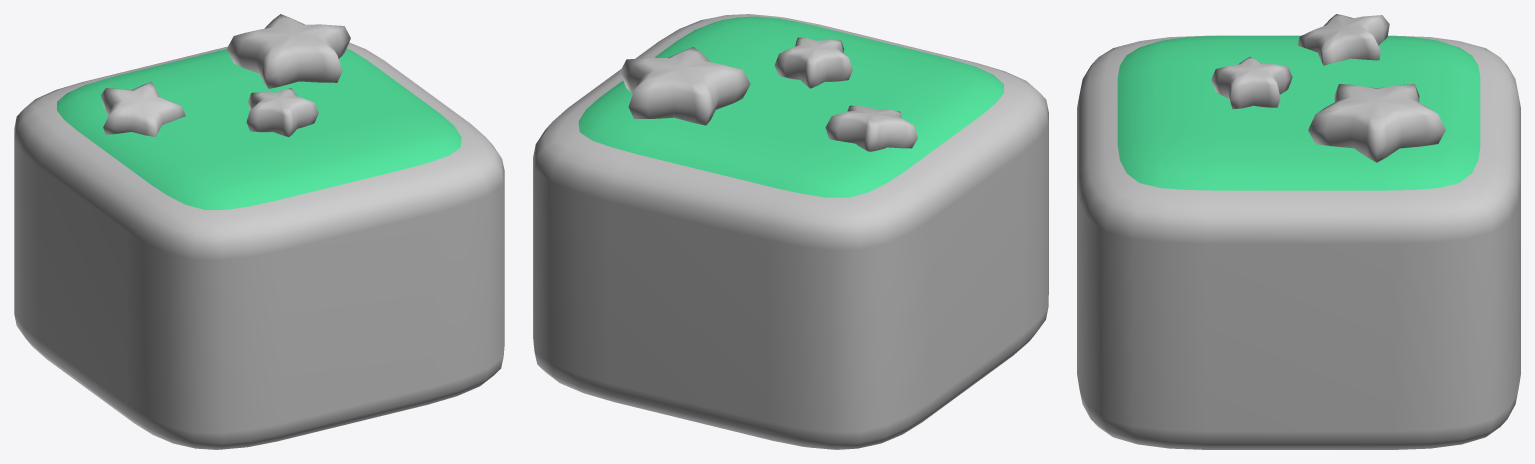
The model's file is block1_test.fbx.
3 views of the same model, side by side, from view 1: azimuth 30°, elevation 25°; view 2: azimuth 150°, elevation 25°; view 3: azimuth 270°, elevation 25° (orthographic). The views are drawn at different scales.
Visible parts, largest first — view 1: block_1, lego_point, stars; view 2: block_1, lego_point, stars; view 3: block_1, lego_point, stars.
Boxes of the visible parts, bbox=[...] form: block_1: bbox=[14, 42, 504, 449]; lego_point: bbox=[57, 49, 461, 209]; stars: bbox=[100, 14, 350, 136]; block_1: bbox=[533, 14, 1048, 449]; lego_point: bbox=[578, 16, 1003, 197]; stars: bbox=[620, 37, 917, 151]; block_1: bbox=[1077, 35, 1520, 449]; lego_point: bbox=[1117, 35, 1480, 190]; stars: bbox=[1211, 14, 1445, 162].
Bounding box in the file's own units: 1.02 × 0.7866 × 1.02.
